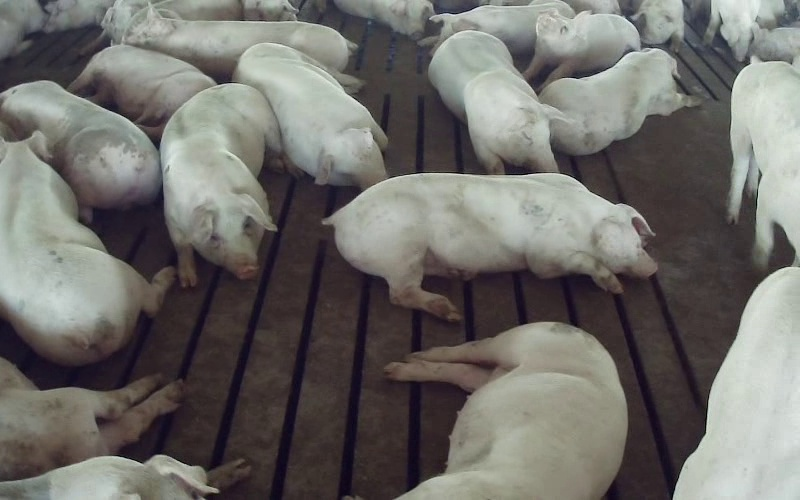pig: (323, 173, 656, 320), (385, 322, 626, 499), (674, 267, 799, 499), (160, 84, 283, 286), (0, 358, 184, 480), (233, 43, 387, 188), (429, 31, 561, 174), (122, 6, 355, 81), (539, 49, 700, 154), (727, 62, 799, 270), (67, 45, 215, 141), (524, 11, 639, 85)
